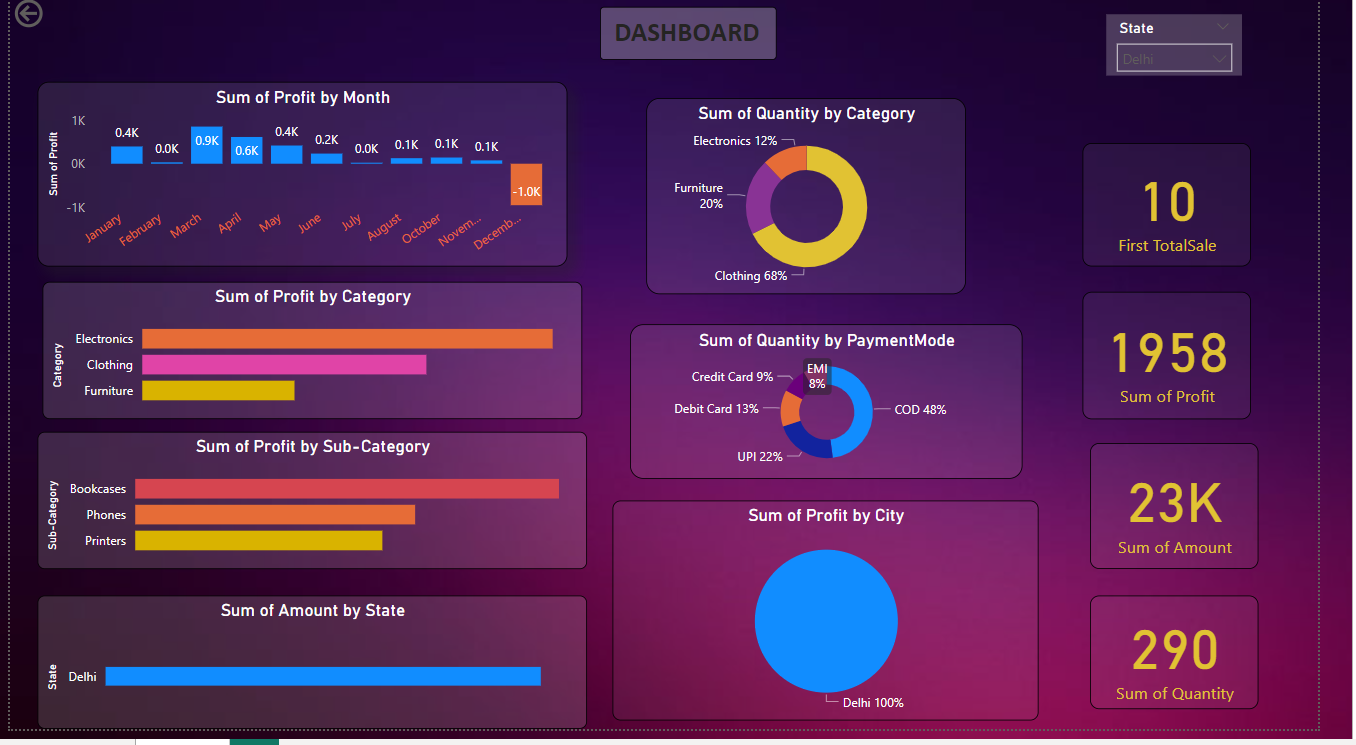

This screenshot's page, from the dashboard's own definition file:
{"tool":"powerbi","page":{"name":"Page 1","canvas":[1280,720],"ordinal":0},"visuals":[{"type":"textbox","box":[577.2,13.7,172.8,52.1],"z":0},{"type":"columnChart","fields":{"Y":["Sum(Details.Profit)"],"Category":["Orders.Order Date.Variation.Date Hierarchy.Month"]},"box":[27.4,86.4,518.3,181],"z":1000},{"type":"actionButton","box":[0,0,36.7,40.3],"z":2000},{"type":"barChart","fields":{"Y":["Sum(Details.Profit)"],"Category":["Details.Category"]},"box":[31.5,282.4,527.9,134.4],"z":3000},{"type":"barChart","fields":{"Y":["Sum(Details.Profit)"],"Category":["Details.Sub-Category"]},"box":[27.4,429.1,537.5,134.4],"z":4000},{"type":"donutChart","fields":{"Category":["Details.Category"],"Y":["Sum(Details.Quantity)"]},"box":[622.5,102.8,312.6,191.9],"z":5000},{"type":"donutChart","fields":{"Category":["Details.PaymentMode"],"Y":["Sum(Details.Quantity)"]},"box":[606.3,323.9,383.8,151.6],"z":6000},{"type":"card","fields":{"Values":["Sum(Details.Amount)"]},"box":[1057.1,440.1,164.5,123.4],"z":7000},{"type":"card","fields":{"Values":["Sum(Details.Profit)"]},"box":[1048.9,292,164.5,124.8],"z":8000},{"type":"card","fields":{"Values":["Sum(Details.Quantity)"]},"box":[1057.1,589.5,164.5,111.1],"z":9000},{"type":"barChart","fields":{"Y":["Sum(Details.Amount)"],"Category":["Orders.State"]},"box":[27.4,589.5,537.5,130.2],"z":10000},{"type":"pieChart","fields":{"Y":["Sum(Details.Profit)"],"Category":["Orders.City"]},"box":[589.5,496.3,416.8,215.3],"z":11000},{"type":"card","fields":{"Values":["Min(Details.TotalSale)"]},"box":[1048.9,146.7,164.5,120.7],"z":12000},{"type":"slicer","fields":{"Values":["Orders.State"]},"box":[1072.2,20.6,133,60.3],"z":13000}]}

Visuals, with their boxes in screenshot pixels (x1, y1, x2, y2), scaled from the page's 1280x720 canvas onto the 1356x745 screenshot:
textbox: (left=611, top=14, right=795, bottom=68)
columnChart - Sum(Details.Profit) x Orders.Order Date.Variation.Date Hierarchy.Month: (left=29, top=89, right=578, bottom=277)
actionButton: (left=0, top=0, right=39, bottom=42)
barChart - Sum(Details.Profit) x Details.Category: (left=33, top=292, right=593, bottom=431)
barChart - Sum(Details.Profit) x Details.Sub-Category: (left=29, top=444, right=598, bottom=583)
donutChart - Details.Category x Sum(Details.Quantity): (left=659, top=106, right=991, bottom=305)
donutChart - Details.PaymentMode x Sum(Details.Quantity): (left=642, top=335, right=1049, bottom=492)
card - Sum(Details.Amount): (left=1120, top=455, right=1294, bottom=583)
card - Sum(Details.Profit): (left=1111, top=302, right=1285, bottom=431)
card - Sum(Details.Quantity): (left=1120, top=610, right=1294, bottom=725)
barChart - Sum(Details.Amount) x Orders.State: (left=29, top=610, right=598, bottom=744)
pieChart - Sum(Details.Profit) x Orders.City: (left=625, top=514, right=1066, bottom=736)
card - Min(Details.TotalSale): (left=1111, top=152, right=1285, bottom=277)
slicer - Orders.State: (left=1136, top=21, right=1277, bottom=84)
